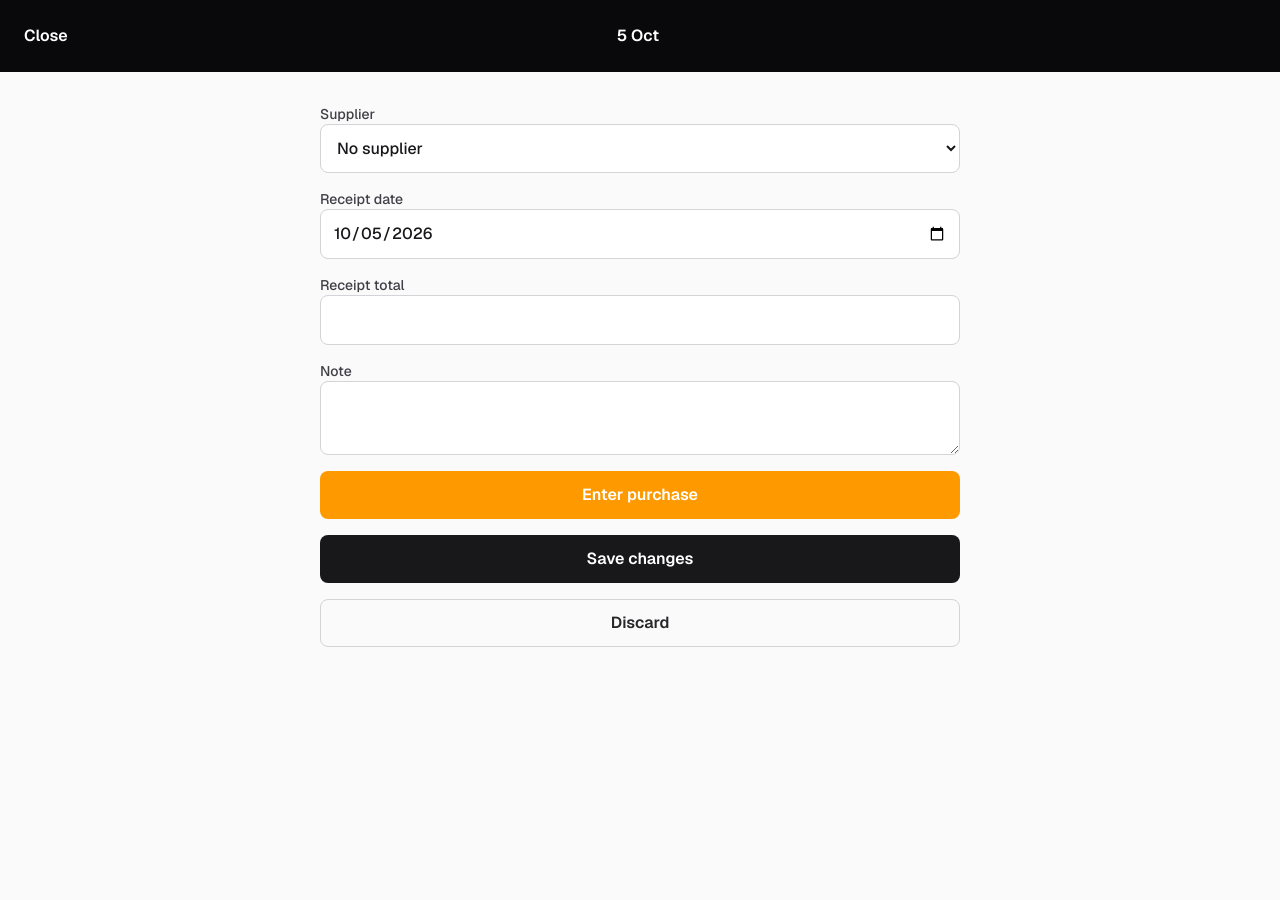
Test: ReceiptViewer Enter purchase › stays on the receipt when saving the edits fails
Select "Sligro" in the dropdown at [640, 148], box [320,124,960,173]
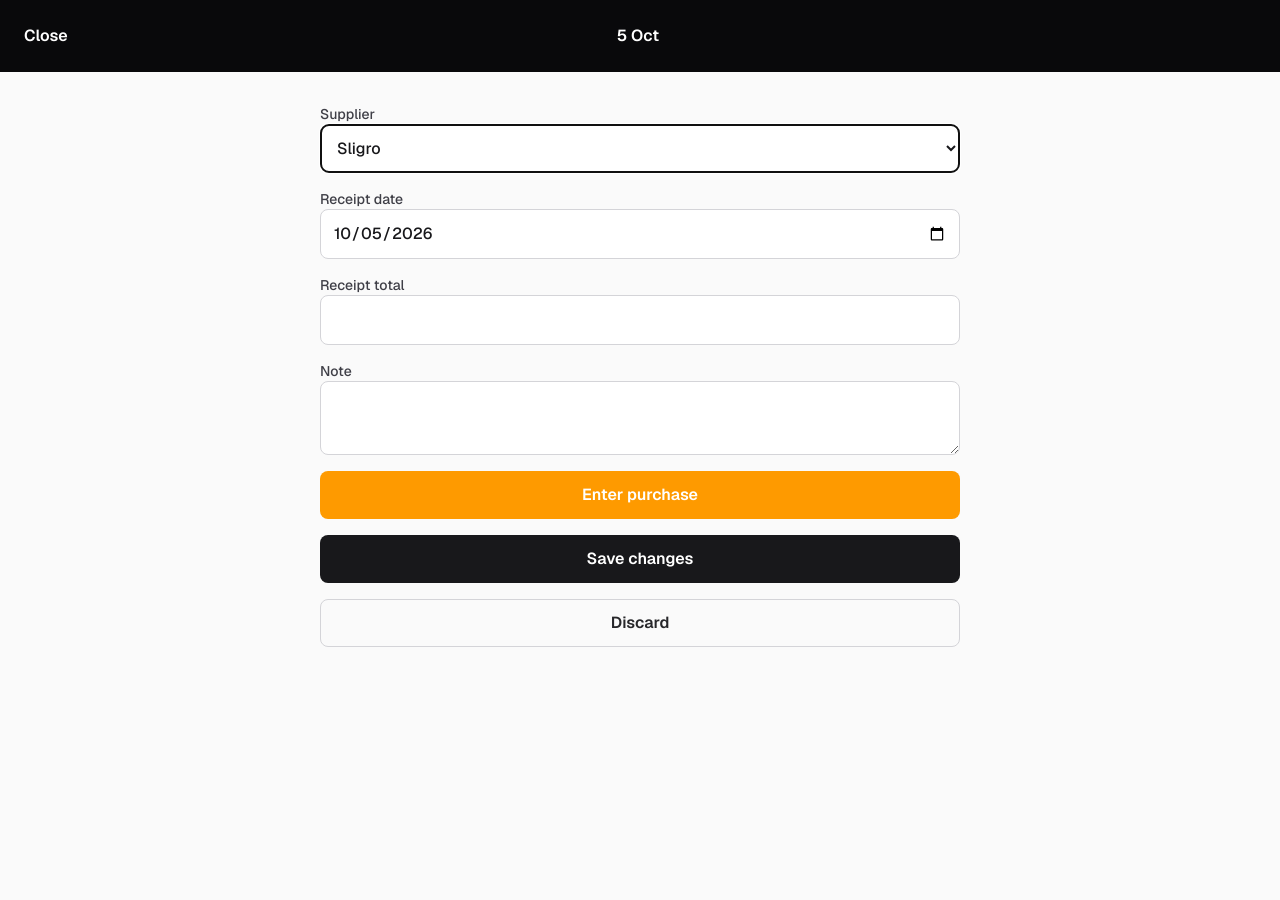
Click the button "Enter purchase" at [640, 495], box [320,471,960,519]
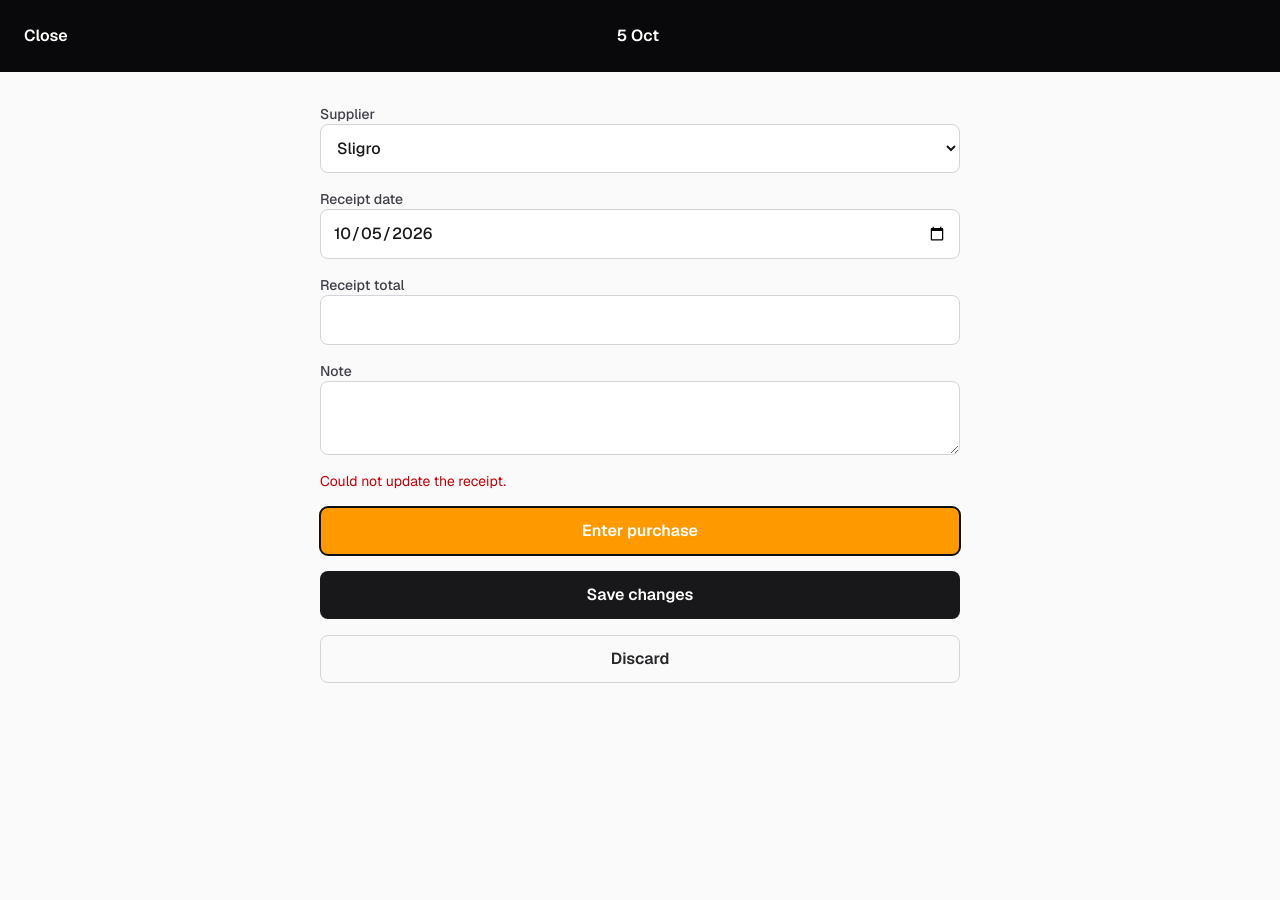
expect the message reads "Could not update the receipt.": met, box [320,472,506,490]
